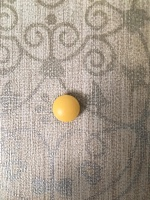Nurofen: (51, 94, 81, 124)
